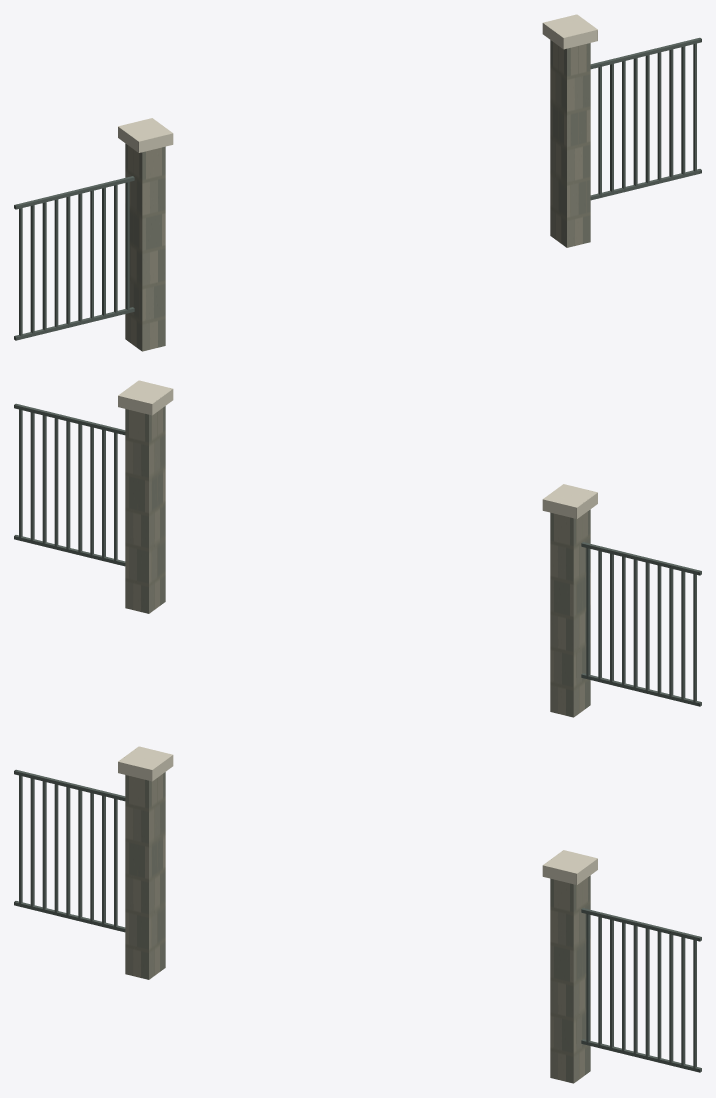
The model's file is SM_QD_School_OpenIronGate.fbx.
3 renders of one model, top to bottom at view 1: azimuth 30°, elevation 25°; view 2: azimuth 150°, elevation 25°; view 3: azimuth 330°, elevation 25°, orthographic.
Visible parts, largest first — view 1: SM_QD_School_OpenIronGate; view 2: SM_QD_School_OpenIronGate; view 3: SM_QD_School_OpenIronGate.
Boxes of the visible parts, bbox=[...] form: SM_QD_School_OpenIronGate: bbox=[14, 14, 701, 351]; SM_QD_School_OpenIronGate: bbox=[14, 380, 701, 717]; SM_QD_School_OpenIronGate: bbox=[14, 746, 701, 1083].
Size of the model in its own units: 7.56 by 0.4 by 2.24.
